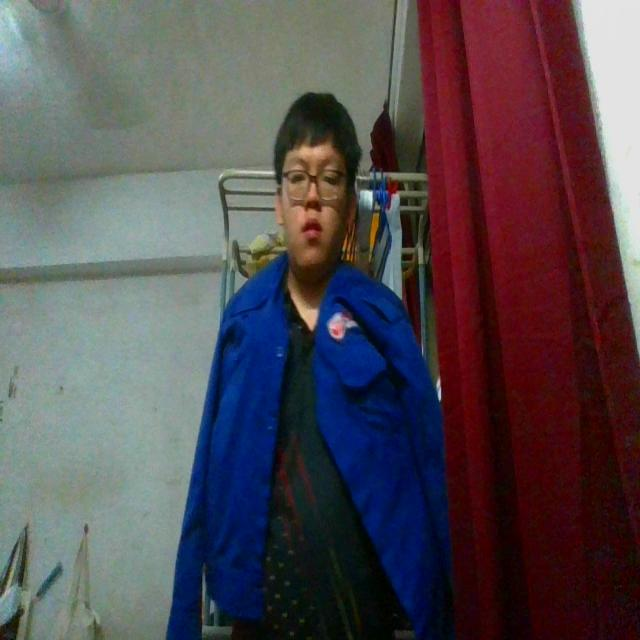person_without_labcoat: (167, 94, 452, 639)
